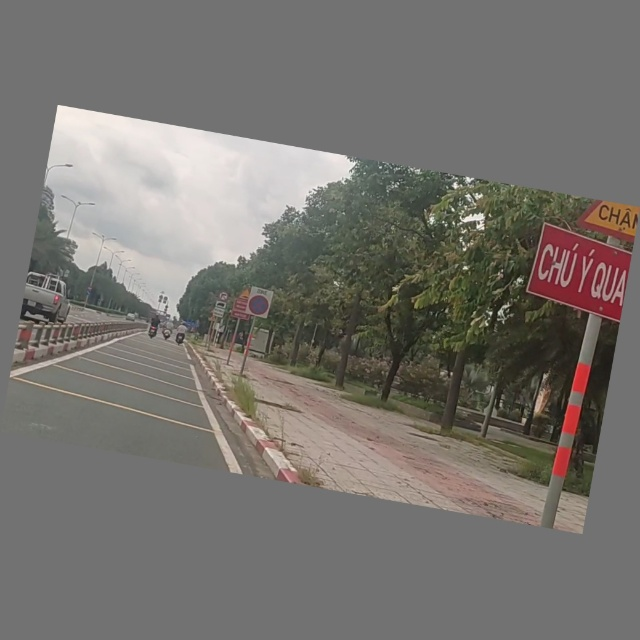P.123b: (216, 291, 230, 303)
P.130: (244, 284, 274, 321)
S.505a*Xe tai: (212, 300, 227, 320)
